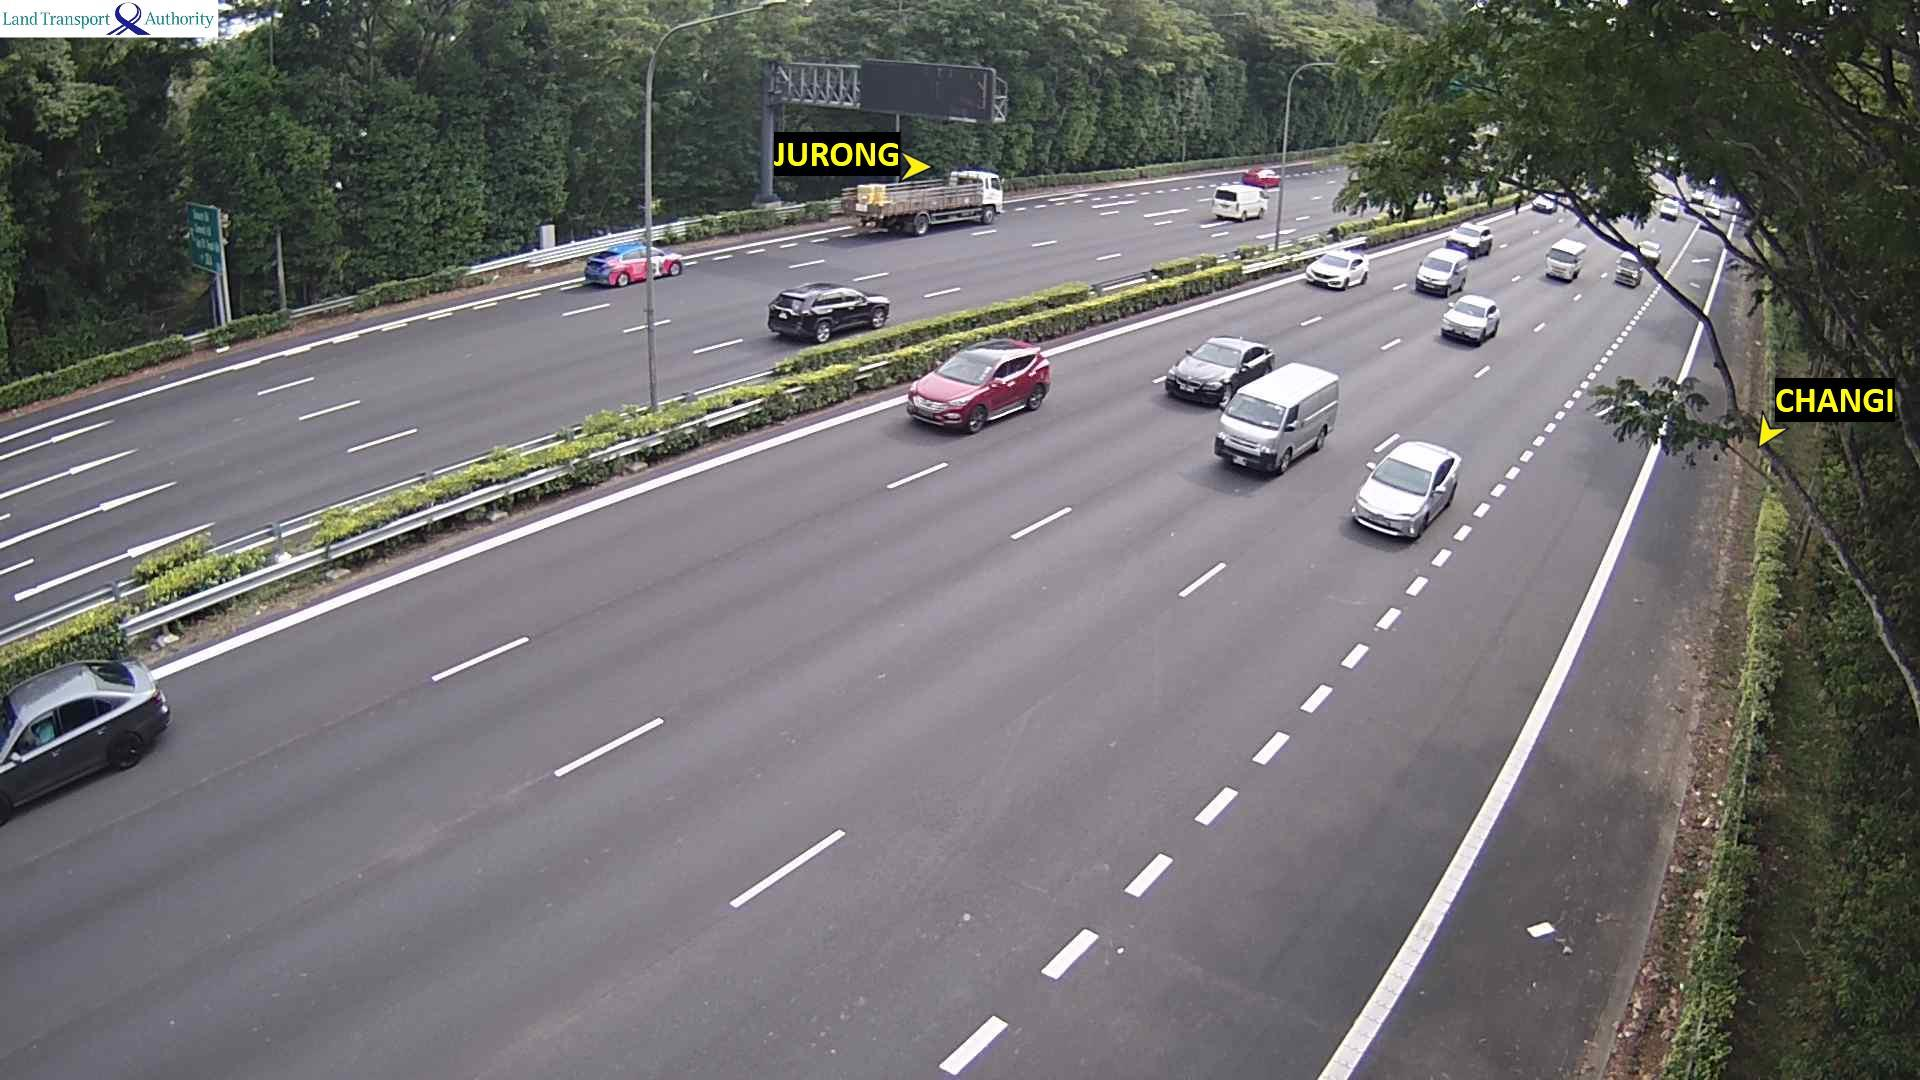cars: (0, 657, 170, 826), (1212, 361, 1339, 475), (905, 337, 1050, 433), (1350, 438, 1461, 540), (1164, 334, 1275, 409), (766, 280, 890, 344), (583, 240, 683, 287), (1439, 293, 1500, 344), (1414, 246, 1468, 296), (1304, 249, 1368, 290), (1211, 183, 1267, 222), (1383, 188, 1446, 220), (1544, 237, 1586, 281), (1446, 221, 1493, 257), (1613, 254, 1640, 286), (1242, 165, 1279, 188), (1636, 240, 1661, 265), (1531, 191, 1558, 213), (1659, 196, 1682, 220), (1705, 199, 1725, 219), (1690, 186, 1707, 204)
trucks: (836, 170, 1004, 237)
